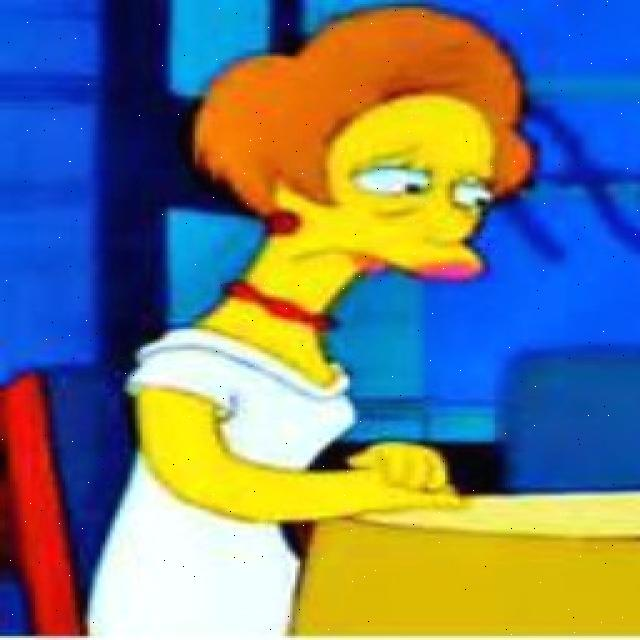Edna Krappel: (190, 3, 545, 330)
